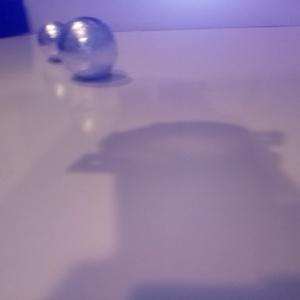alive_ball: (58, 17, 118, 79), (37, 22, 72, 59)
